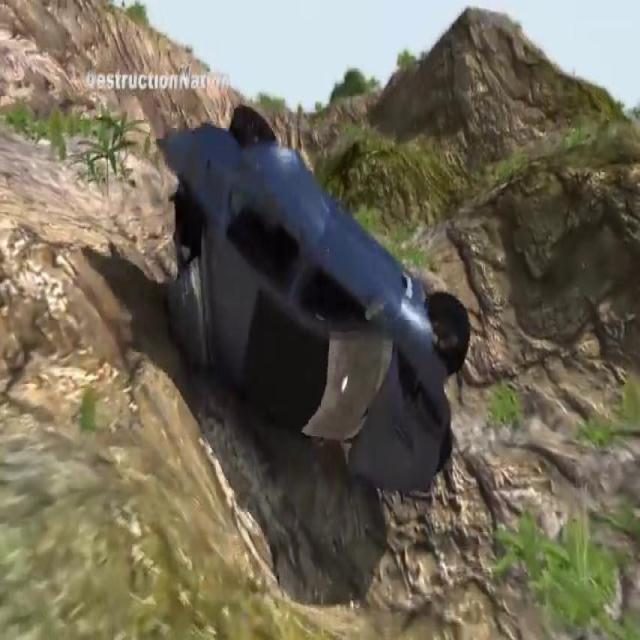severe: (148, 96, 474, 503)
